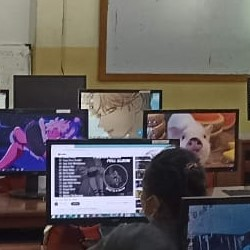monitor: (45, 139, 179, 228), (142, 109, 240, 177), (0, 108, 89, 178), (78, 89, 163, 139), (177, 196, 250, 250), (13, 75, 87, 110), (0, 89, 9, 109)
